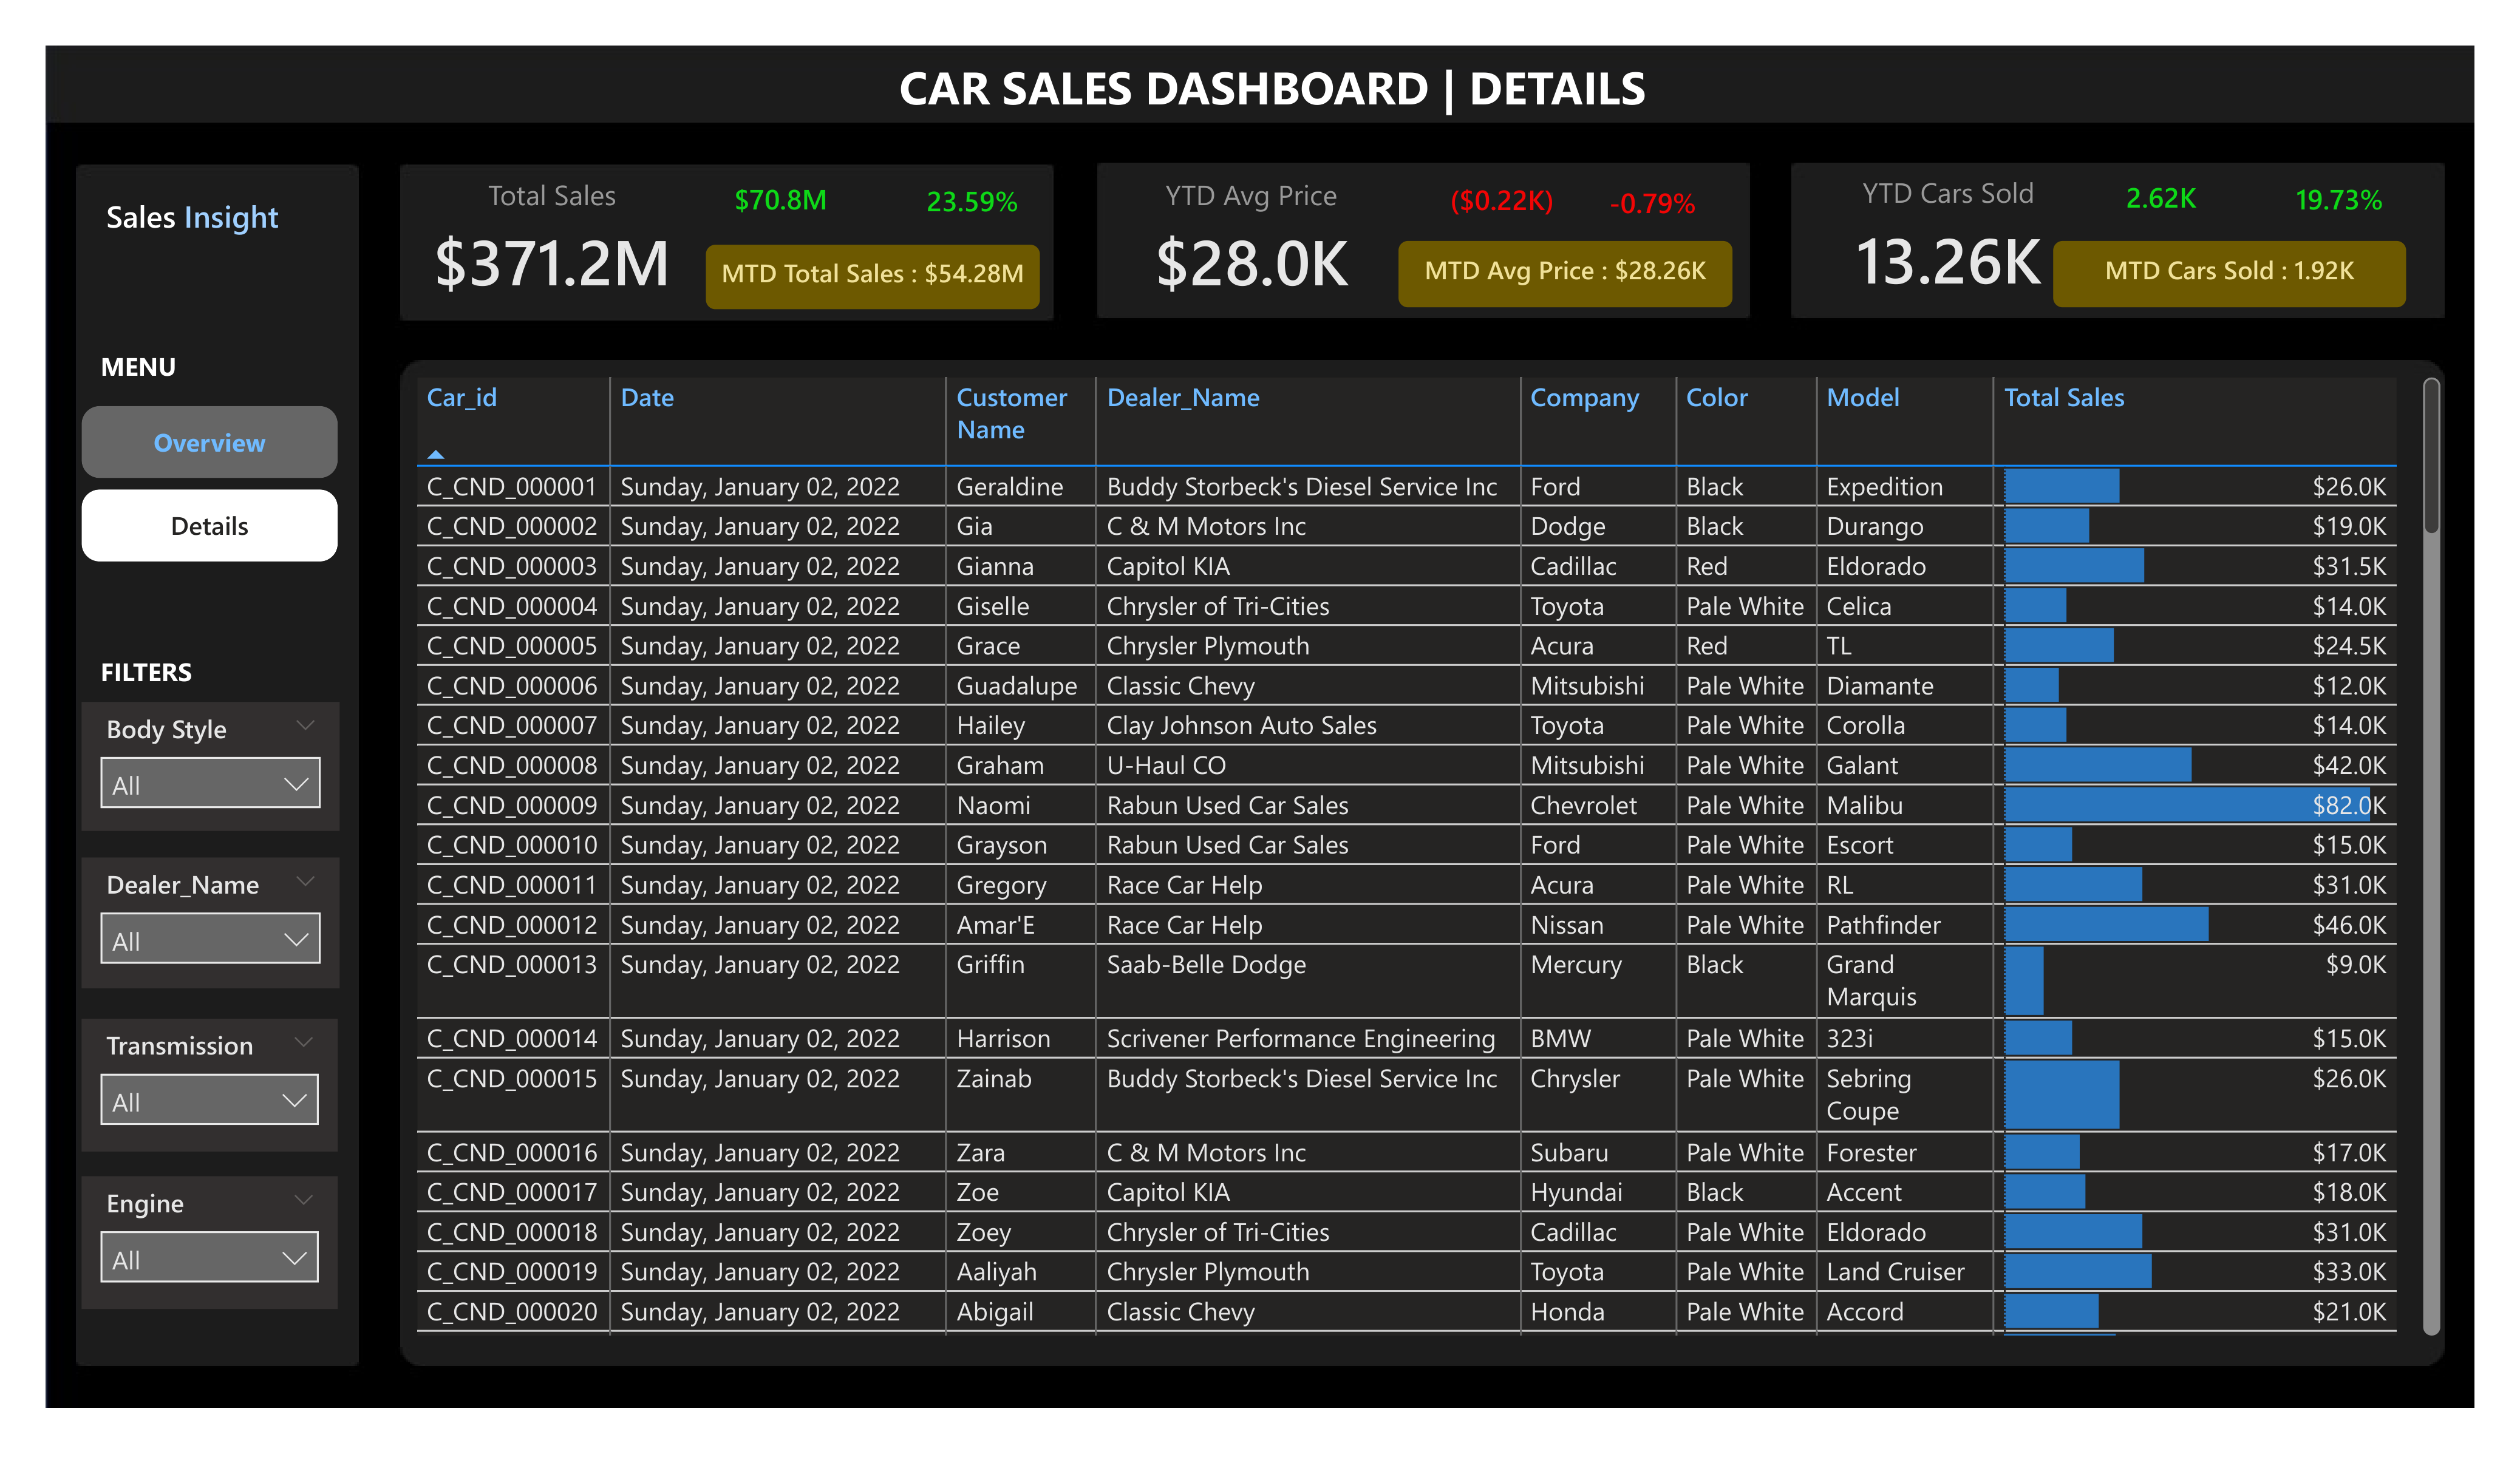

What the dashboard file says about the page in this screenshot:
{"tool":"powerbi","page":{"name":"Details","canvas":[1280,720],"ordinal":1},"visuals":[{"type":"card","title":"Total Sales","fields":{"Values":["car_data.YTD Total Sales"]},"box":[190,67.6,154.3,71.4],"z":0},{"type":"card","fields":{"Values":["car_data.Sales difference"]},"box":[344.2,67.6,86.7,24.2],"z":1000},{"type":"card","fields":{"Values":["car_data.YOY Sales Growth"]},"box":[444.9,68.8,86.7,24.2],"z":2000},{"type":"card","fields":{"Values":["car_data.MTD KPI"]},"box":[348,104.5,175.9,34.4],"z":3000},{"type":"card","title":"YTD Avg Price","fields":{"Values":["car_data.YTD Avg Price"]},"box":[558.4,67.6,154.3,71.4],"z":4000},{"type":"card","fields":{"Values":["car_data.Avg Price Diff"]},"box":[732.2,69.3,70.5,24.3],"z":5000},{"type":"card","fields":{"Values":["car_data.YOY Avg Price Growth"]},"box":[812.2,69.7,69.7,24.1],"z":6000},{"type":"card","fields":{"Values":["car_data.MTD Avg Price KPI"]},"box":[713,103.2,175.6,34.8],"z":7000},{"type":"card","title":"YTD Cars Sold","fields":{"Values":["car_data.YTD Cars Sold"]},"box":[926.2,67,154.1,71],"z":8000},{"type":"card","fields":{"Values":["car_data.Car Sold Diff"]},"box":[1080.3,67,69.7,24.1],"z":9000},{"type":"card","fields":{"Values":["car_data.YOY Car Sold Group"]},"box":[1174.1,68.4,69.7,24.1],"z":10000},{"type":"card","fields":{"Values":["car_data.MTD Cars Sold KPI"]},"box":[1057.5,103.2,186.3,34.8],"z":11000},{"type":"textbox","box":[445,0,461.1,46.9],"z":12000},{"type":"slicer","fields":{"Values":["car_data.Body Style"]},"box":[18.8,345.8,136.7,68.4],"z":13000},{"type":"slicer","fields":{"Values":["car_data.Dealer_Name"]},"box":[18.8,427.6,136.7,69.7],"z":14000},{"type":"slicer","fields":{"Values":["car_data.Transmission"]},"box":[18.8,513.3,135.4,69.7],"z":15000},{"type":"slicer","fields":{"Values":["car_data.Engine"]},"box":[18.8,596.4,135.4,69.7],"z":16000},{"type":"tableEx","fields":{"Values":["car_data.Car_id","car_data.Date","car_data.Customer Name","car_data.Dealer_Name","car_data.Company","car_data.Color","car_data.Model","Sum(car_data.Price ($))"]},"box":[190.3,170.2,1076.3,514.7],"z":17000},{"type":"textbox","box":[24.1,155.5,61.7,29.5],"z":18000},{"type":"textbox","box":[24.1,316.3,71,29.5],"z":19000},{"type":"pageNavigator","box":[18.8,190.3,135.4,81.8],"z":20000},{"type":"textbox","box":[26.8,73.7,122,34.8],"z":21000}]}

Visuals, with their boxes on the page's 1280x720 design canvas (x1, y1, x2, y2). These are canvas units, not pixel positions in the 2520x1457 screenshot, which may show the page scaled, cropped or inside an application window:
"Total Sales" card: (left=190, top=68, right=344, bottom=139)
card - car_data.Sales difference: (left=344, top=68, right=431, bottom=92)
card - car_data.YOY Sales Growth: (left=445, top=69, right=532, bottom=93)
card - car_data.MTD KPI: (left=348, top=104, right=524, bottom=139)
"YTD Avg Price" card: (left=558, top=68, right=713, bottom=139)
card - car_data.Avg Price Diff: (left=732, top=69, right=803, bottom=94)
card - car_data.YOY Avg Price Growth: (left=812, top=70, right=882, bottom=94)
card - car_data.MTD Avg Price KPI: (left=713, top=103, right=889, bottom=138)
"YTD Cars Sold" card: (left=926, top=67, right=1080, bottom=138)
card - car_data.Car Sold Diff: (left=1080, top=67, right=1150, bottom=91)
card - car_data.YOY Car Sold Group: (left=1174, top=68, right=1244, bottom=92)
card - car_data.MTD Cars Sold KPI: (left=1058, top=103, right=1244, bottom=138)
textbox: (left=445, top=0, right=906, bottom=47)
slicer - car_data.Body Style: (left=19, top=346, right=156, bottom=414)
slicer - car_data.Dealer_Name: (left=19, top=428, right=156, bottom=497)
slicer - car_data.Transmission: (left=19, top=513, right=154, bottom=583)
slicer - car_data.Engine: (left=19, top=596, right=154, bottom=666)
tableEx - car_data.Car_id x car_data.Date: (left=190, top=170, right=1267, bottom=685)
textbox: (left=24, top=156, right=86, bottom=185)
textbox: (left=24, top=316, right=95, bottom=346)
pageNavigator: (left=19, top=190, right=154, bottom=272)
textbox: (left=27, top=74, right=149, bottom=108)
